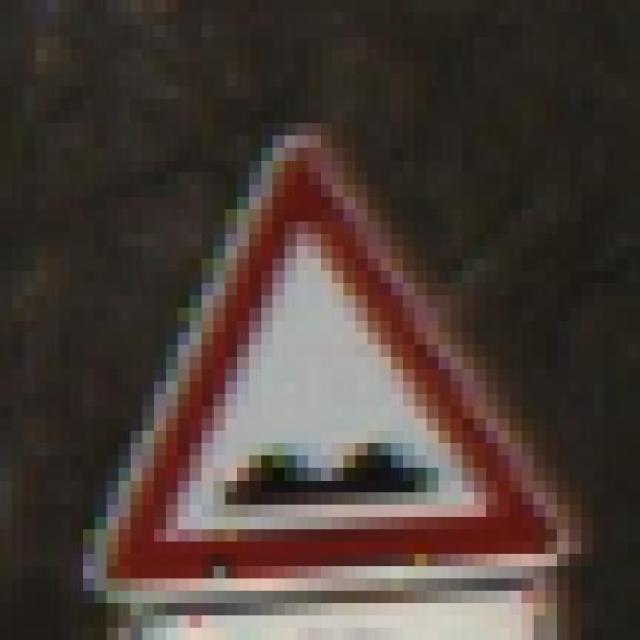Uneven Road: (82, 111, 593, 615)
